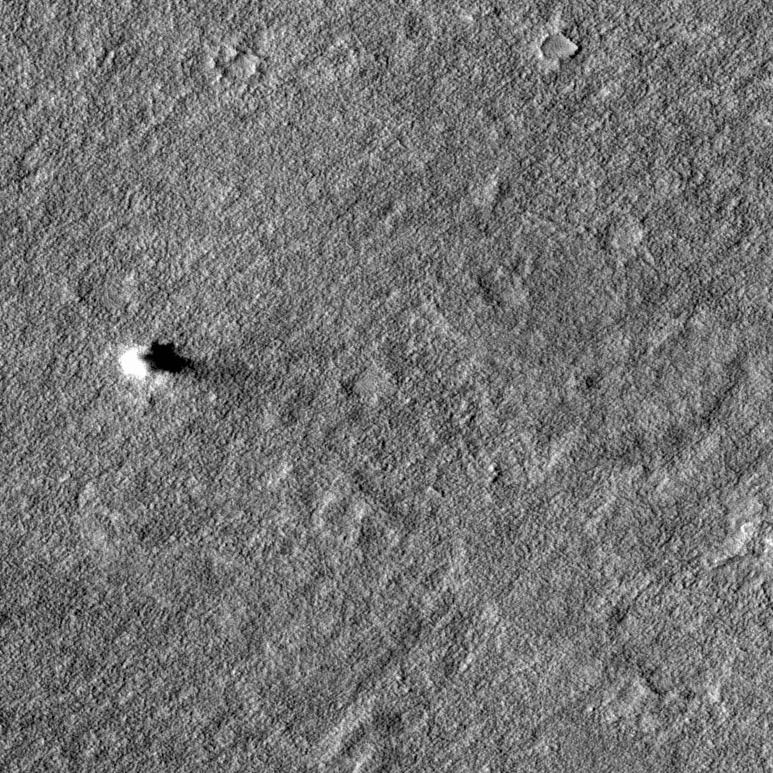dust_devil: (116, 336, 252, 386)
